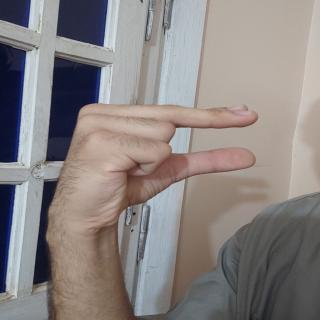DHELL: (40, 94, 265, 258)
